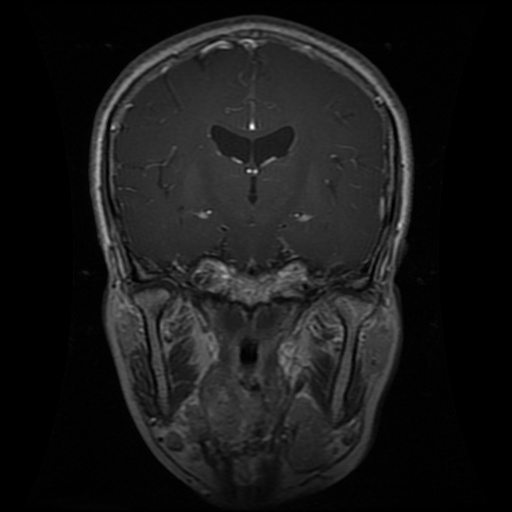glioma: (144, 142, 186, 196)
